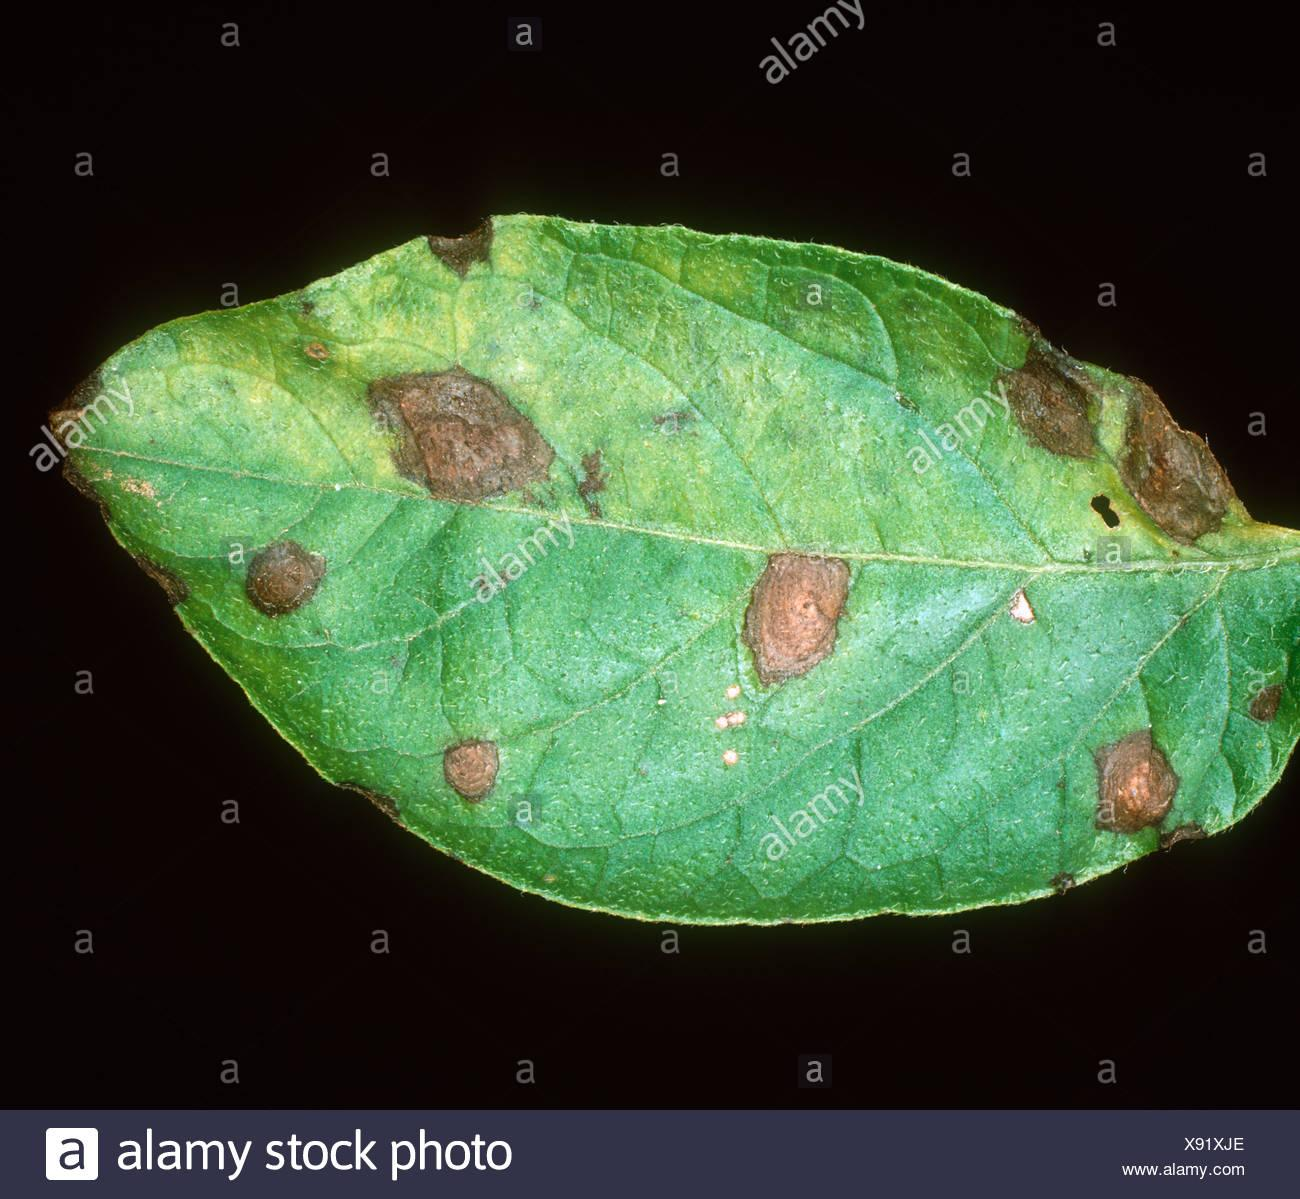Potato leaf late blight: (35, 203, 1300, 932)
